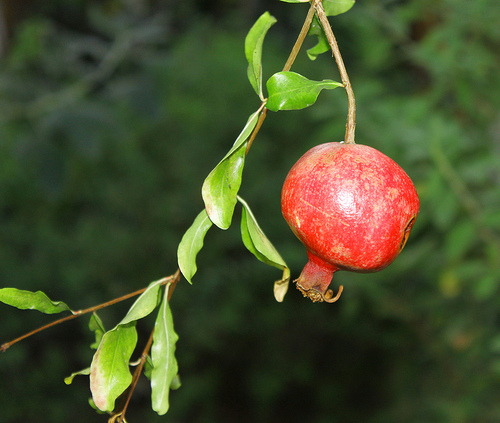pomogranate: (278, 139, 421, 307)
